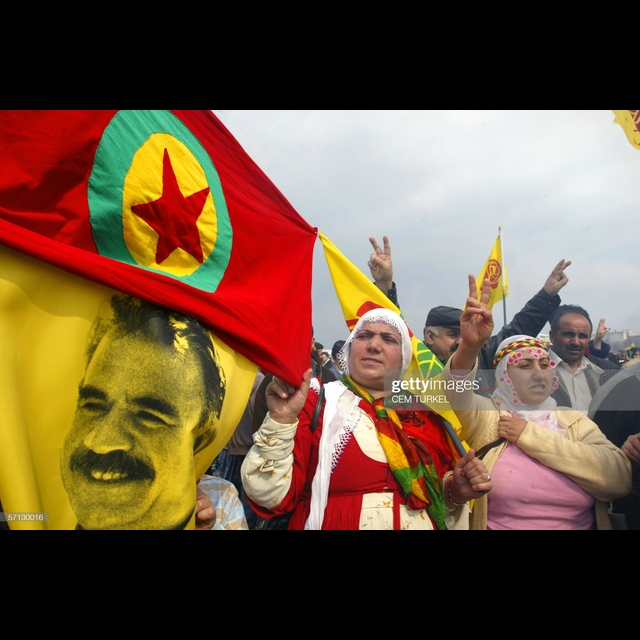APO: (41, 314, 197, 522)
PKK: (92, 110, 238, 295)
ZI: (449, 269, 499, 352), (360, 222, 408, 293), (542, 246, 579, 297)
